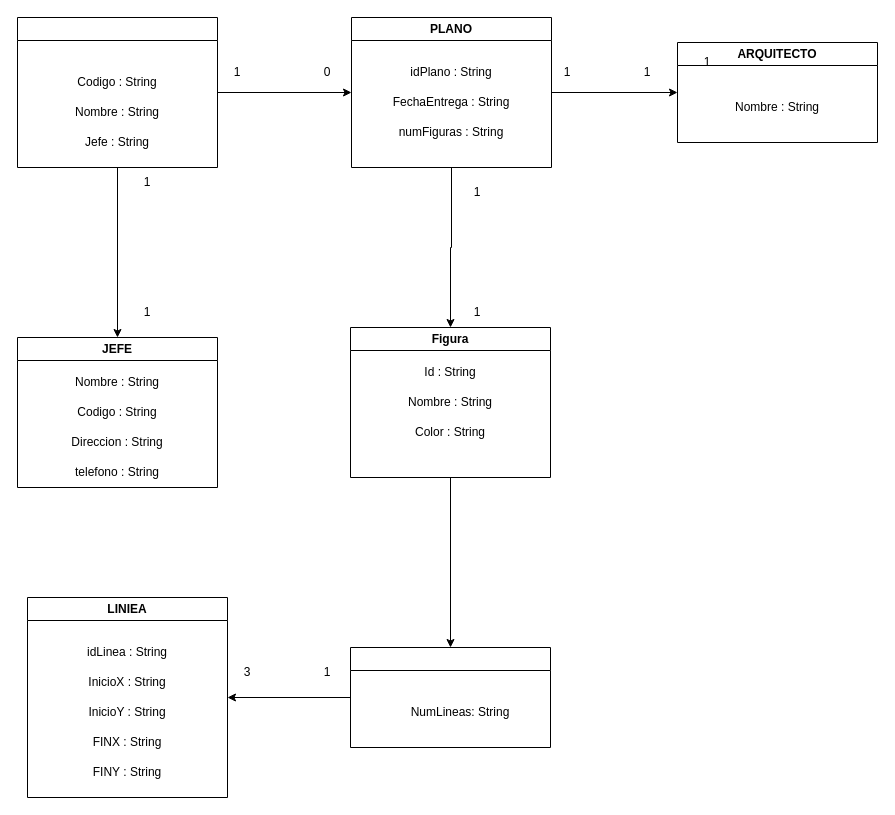
Image size: 895x815. Some labels were removed from this diagram. Each missing label, with the box of its shape:
POLIGONO: (350, 646, 550, 748)
PROYECTO: (16, 16, 218, 168)
